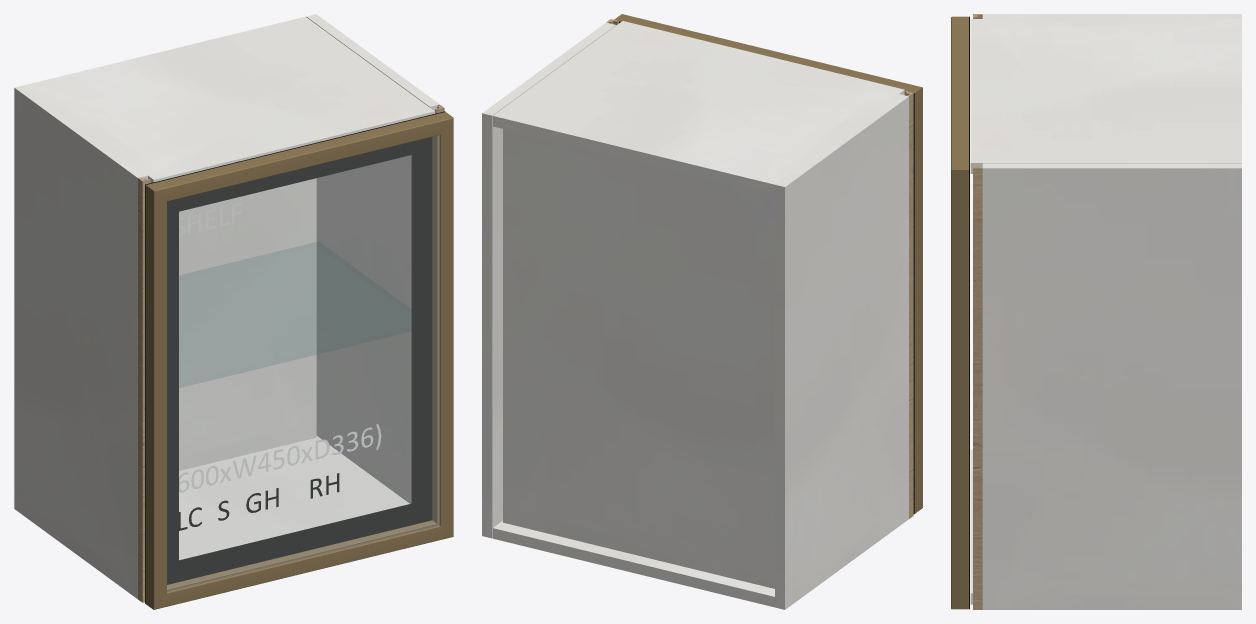
File: LO-SH-NHX-GL-1SG-RHS-XXX-450-600-336-15.glb
3 renders of one model, left to right at view 1: azimuth 30°, elevation 25°; view 2: azimuth 150°, elevation 25°; view 3: azimuth 270°, elevation 25°, orthographic. The views are drawn at different scales.
Parts seen in each view (by area): view 1: Object_node_4, TP_node_0, TP, TP_node_2, Neon 22 Profile ALU PROF NEON 20 L21XH22.5MM 3MTR S2/405 SEC (×4), TP_node_1, Object_node_6, TP_node, Object_node_8, 2D text_node_0, 2D text_node; view 2: TP_node_2, TP_node_0, TP, TP_node_1, Neon 22 Profile ALU PROF NEON 20 L21XH22.5MM 3MTR S2/405 SEC (×2), TP_node, Object_node_8, Object_node_6; view 3: TP_node_1, TP, Neon 22 Profile ALU PROF NEON 20 L21XH22.5MM 3MTR S2/405 SEC (×2), Object_node_14, TP_node_0, Object_node_6, TP_node.
Boxes of the visible parts, left/top/right/bottom form: Object_node_4: left=167, top=135, right=439, bottom=591; TP_node_0: left=14, top=85, right=147, bottom=598; TP: left=24, top=16, right=434, bottom=182; TP_node_2: left=179, top=178, right=316, bottom=470; Neon 22 Profile ALU PROF NEON 20 L21XH22.5MM 3MTR S2/405 SEC (×4): left=145, top=112, right=453, bottom=609; TP_node_1: left=306, top=14, right=439, bottom=503; Object_node_6: left=145, top=111, right=445, bottom=603; TP_node: left=179, top=436, right=409, bottom=560; Object_node_8: left=138, top=177, right=150, bottom=602; 2D text_node_0: left=179, top=424, right=381, bottom=492; 2D text_node: left=179, top=473, right=339, bottom=530; TP_node_2: left=503, top=129, right=774, bottom=588; TP_node_0: left=775, top=94, right=908, bottom=609; TP: left=493, top=21, right=904, bottom=195; TP_node_1: left=482, top=22, right=616, bottom=538; Neon 22 Profile ALU PROF NEON 20 L21XH22.5MM 3MTR S2/405 SEC (×2): left=614, top=14, right=922, bottom=513; TP_node: left=493, top=521, right=774, bottom=607; Object_node_8: left=904, top=91, right=913, bottom=518; Object_node_6: left=619, top=21, right=914, bottom=514; TP_node_1: left=982, top=163, right=1241, bottom=609; TP: left=970, top=19, right=1241, bottom=173; Neon 22 Profile ALU PROF NEON 20 L21XH22.5MM 3MTR S2/405 SEC (×2): left=951, top=16, right=968, bottom=609; Object_node_14: left=973, top=164, right=982, bottom=609; TP_node_0: left=982, top=14, right=1241, bottom=18; Object_node_6: left=969, top=16, right=969, bottom=609; TP_node: left=970, top=449, right=972, bottom=604.
Size of what is drawn, in the model's own units: 0.45 by 0.6 by 0.358.
Materials: 8 (2 with a texture image).
